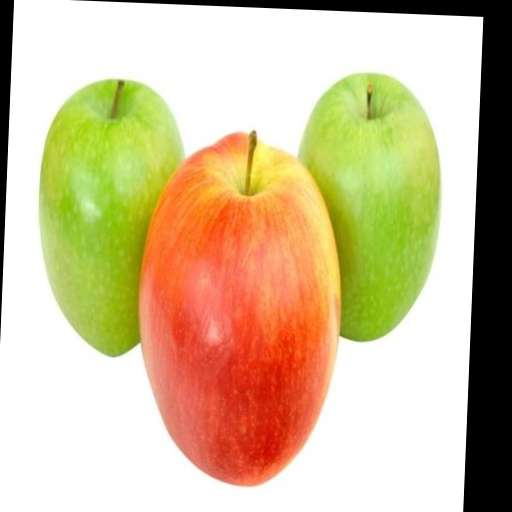fruit: (140, 133, 340, 485), (39, 80, 183, 355), (300, 74, 440, 340)
